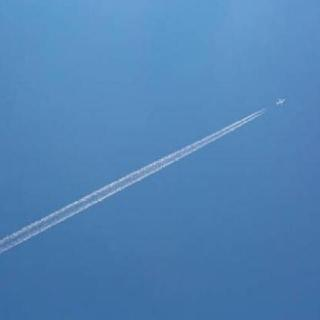Contrails: (5, 108, 273, 258)
